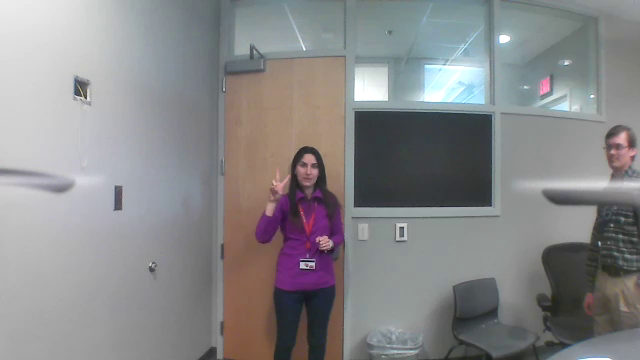peace: (268, 166, 293, 199)
